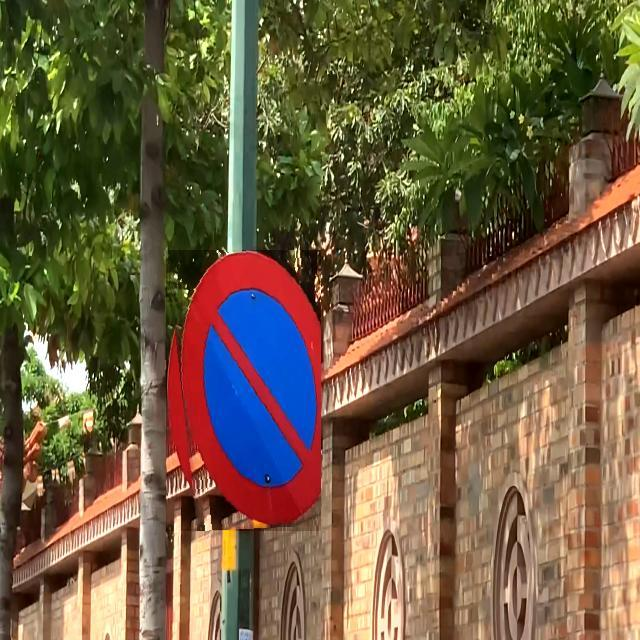P-131a: (166, 250, 321, 531)
